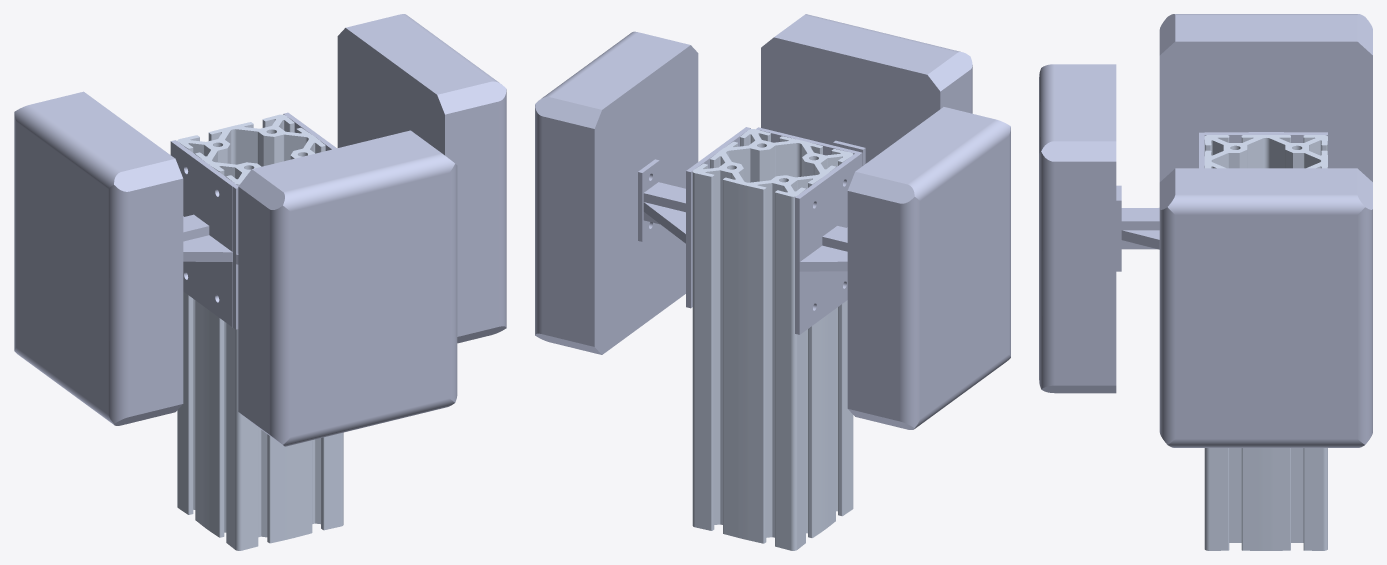
Rendered from iteration_1.glb.
3 views of the same model, side by side, from view 1: azimuth 30°, elevation 25°; view 2: azimuth 150°, elevation 25°; view 3: azimuth 270°, elevation 25° (orthographic). The views are drawn at different scales.
Parts seen in each view (by area): view 1: foam-1, foam-2, 1st Iteration Foam Mounts, foam-3, foam_mount_iteration_1-2, foam_mount_iteration_1-1; view 2: 1st Iteration Foam Mounts, foam-2, foam-3, foam-1, foam_mount_iteration_1-2, Mirrorfoam_mount_iteration_1-3, foam_mount_iteration_1-1; view 3: foam-3, foam-2, foam-1, 1st Iteration Foam Mounts, foam_mount_iteration_1-1, foam_mount_iteration_1-2.
Part boxes in pixels (x1,y1,x2,y2): foam-1: [238, 130, 457, 446]; foam-2: [14, 91, 183, 425]; 1st Iteration Foam Mounts: [177, 114, 343, 550]; foam-3: [337, 14, 506, 343]; foam_mount_iteration_1-2: [170, 140, 237, 327]; foam_mount_iteration_1-1: [233, 185, 238, 329]; 1st Iteration Foam Mounts: [692, 129, 853, 550]; foam-2: [847, 107, 1010, 429]; foam-3: [535, 31, 698, 354]; foam-1: [761, 14, 972, 163]; foam_mount_iteration_1-2: [795, 153, 859, 334]; Mirrorfoam_mount_iteration_1-3: [638, 127, 750, 308]; foam_mount_iteration_1-1: [756, 127, 865, 167]; foam-3: [1159, 168, 1372, 447]; foam-2: [1159, 14, 1372, 181]; foam-1: [1039, 64, 1116, 393]; 1st Iteration Foam Mounts: [1204, 135, 1327, 550]; foam_mount_iteration_1-1: [1116, 132, 1204, 271]; foam_mount_iteration_1-2: [1204, 132, 1327, 142].
Size of the model in its own units: 0.2944 by 0.3 by 0.2162.
